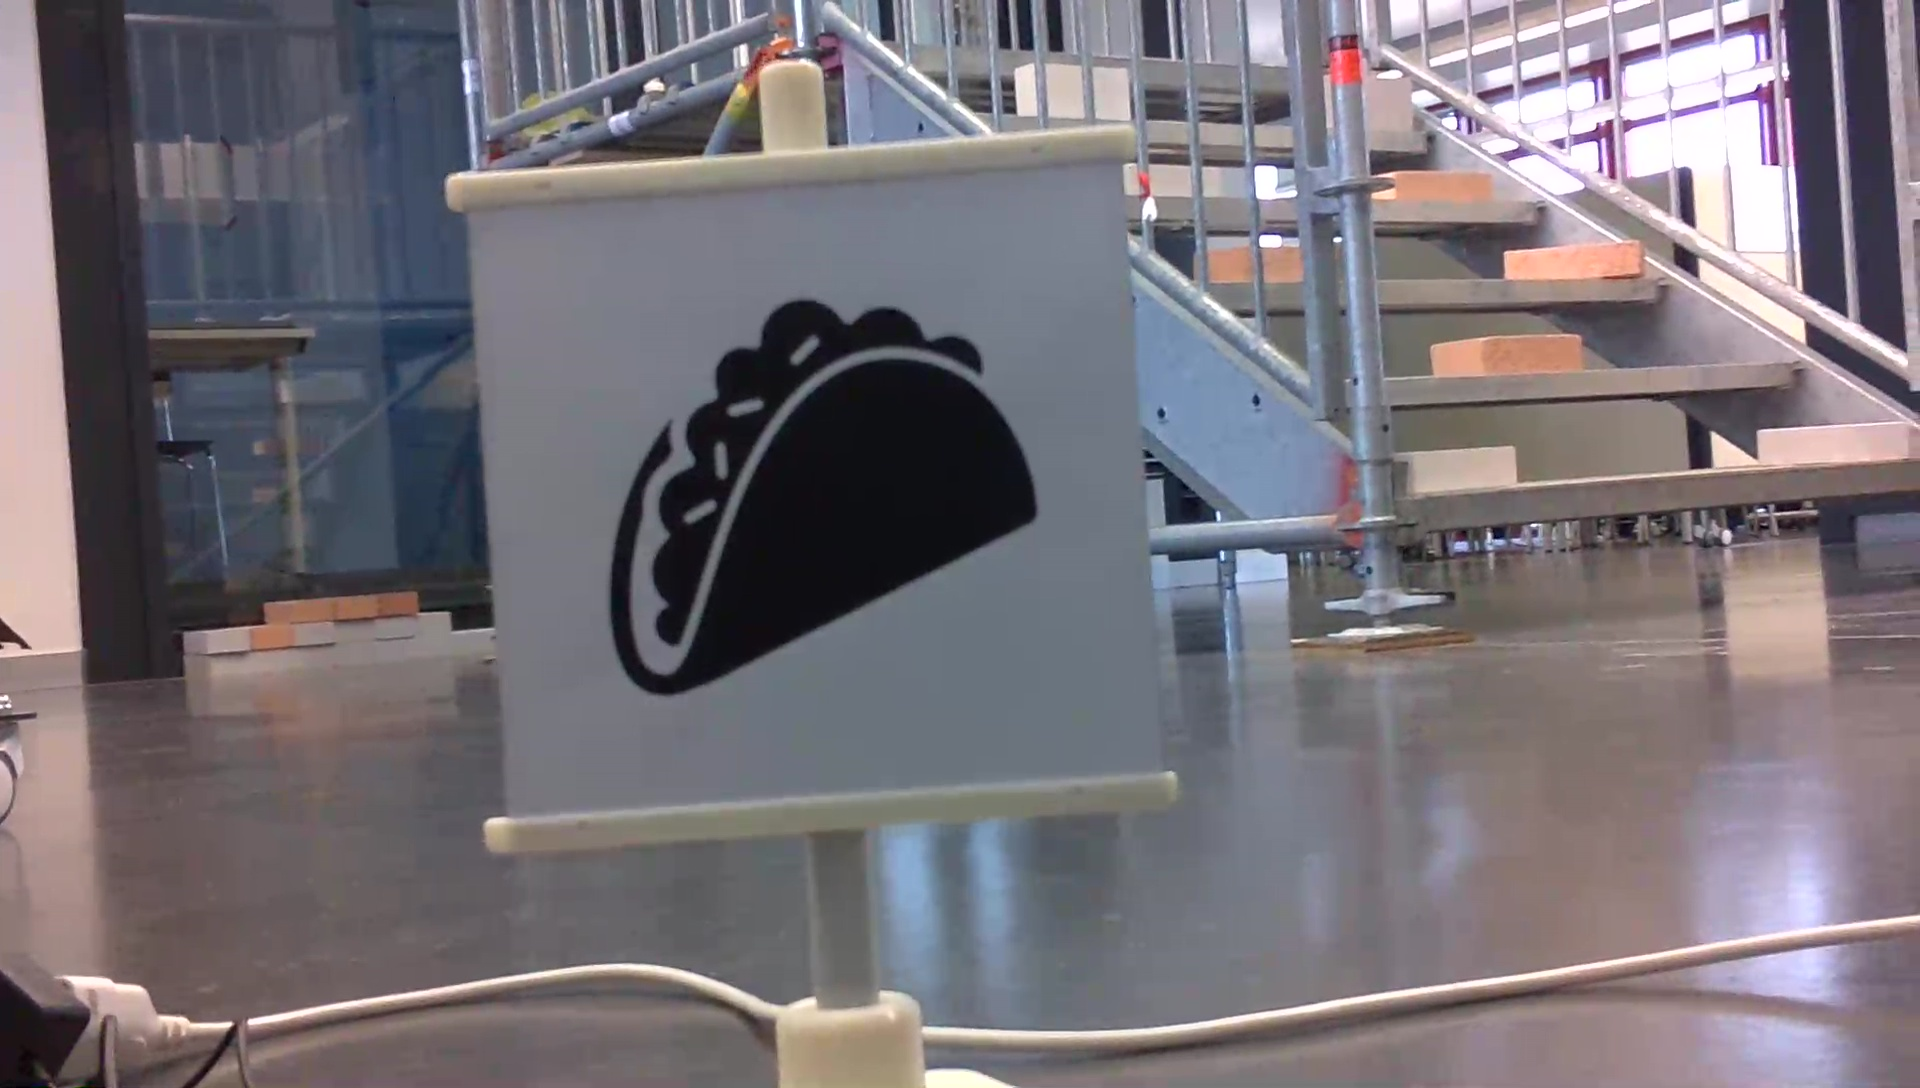brick: (1760, 421, 1911, 462), (1429, 335, 1578, 375), (1505, 240, 1643, 276), (1406, 446, 1513, 487), (1378, 170, 1490, 203), (1364, 75, 1408, 129)
edge: (1420, 450, 1917, 533), (1385, 357, 1807, 401)
taco: (592, 287, 1052, 703)
